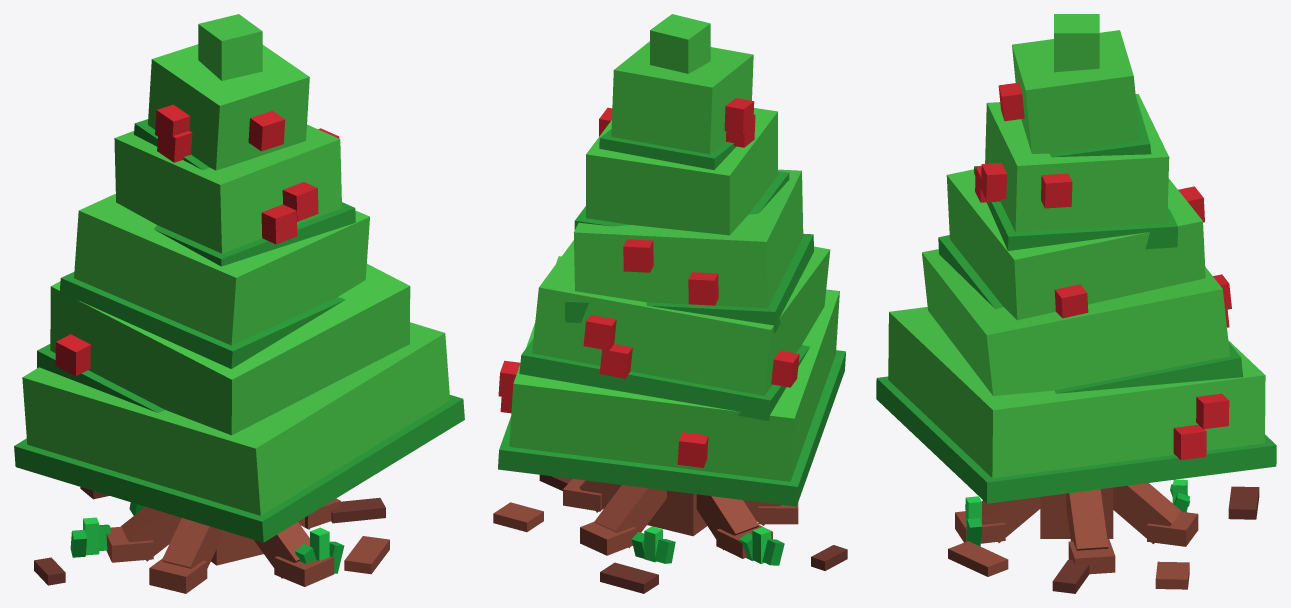
The model's file is PineTree.fbx.
The picture shows the model from 3 angles, left to right: view 1: azimuth 30°, elevation 25°; view 2: azimuth 150°, elevation 25°; view 3: azimuth 270°, elevation 25°; orthographic projection. The views are drawn at different scales.
Parts seen in each view (by area): view 1: LeafGreen.001, LeafDark, Bark, Apple.001, BarkDark, GrassDark.004, Grass.004; view 2: LeafGreen.001, LeafDark, Bark, Apple.001, BarkDark, GrassDark.004, Grass.004; view 3: LeafGreen.001, LeafDark, Bark, Apple.001, BarkDark, Grass.004, GrassDark.004.
Boxes of the visible parts, x1,y1,x2,y2 form: LeafGreen.001: (22,14,449,515); LeafDark: (14,119,464,542); Bark: (106,498,389,593); Apple.001: (55,104,339,376); BarkDark: (34,487,385,585); GrassDark.004: (70,502,344,573); Grass.004: (83,517,329,560); LeafGreen.001: (509,14,839,481); LeafDark: (498,125,845,506); Bark: (493,479,798,558); Apple.001: (498,98,799,467); BarkDark: (539,474,847,593); GrassDark.004: (631,532,784,565); Grass.004: (644,526,771,563); LeafGreen.001: (888,14,1265,478); LeafDark: (876,96,1276,503); Bark: (948,483,1198,589); Apple.001: (975,82,1231,460); BarkDark: (1052,486,1259,593); Grass.004: (965,479,1187,524); GrassDark.004: (965,484,1189,546).
Bounding box in the file's own units: 9.02 × 12.19 × 8.78.
